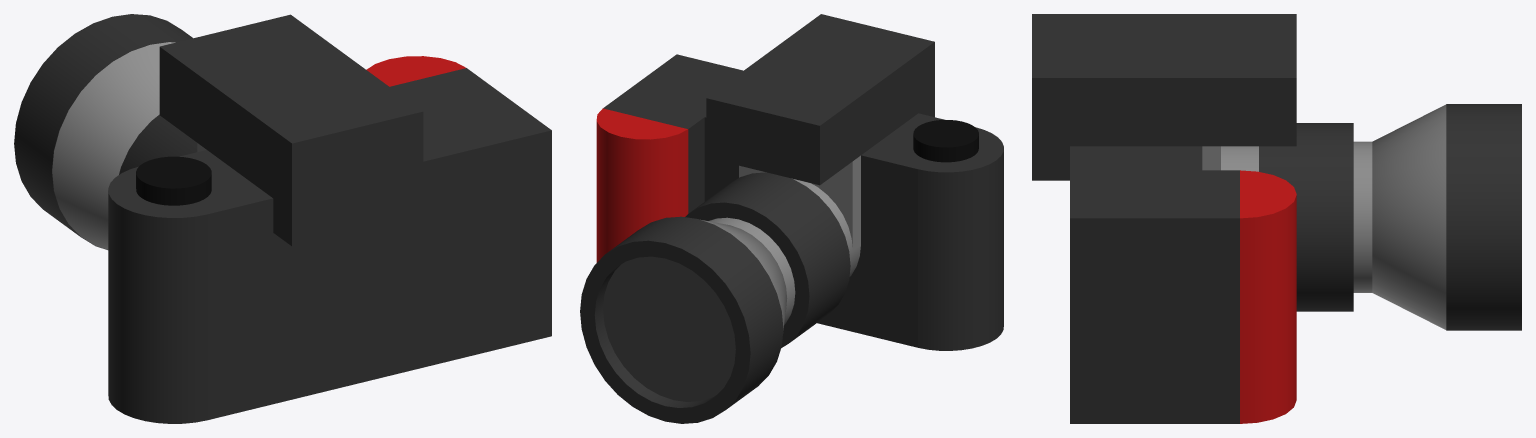
Rendered from Camera.obj.
The picture shows the model from 3 angles, left to right: view 1: azimuth 30°, elevation 25°; view 2: azimuth 150°, elevation 25°; view 3: azimuth 270°, elevation 25°; orthographic projection. The views are drawn at different scales.
Parts seen in each view (by area): view 1: 7, 8, 2, 9, 6, 5, 3, 4, 1, 10; view 2: 5, 8, 7, 2, 4, 1, 9, 10, 3, 12, 11, 6; view 3: 7, 8, 5, 6, 1, 4, 10, 9, 12, 11.
Boxes of the visible parts, x1,y1,x2,y2 form: 7: [179, 82, 551, 419]; 8: [159, 14, 403, 197]; 2: [108, 166, 207, 423]; 9: [273, 97, 423, 246]; 6: [52, 42, 175, 249]; 5: [14, 14, 192, 249]; 3: [136, 156, 211, 205]; 4: [119, 114, 197, 174]; 1: [366, 56, 465, 86]; 10: [390, 68, 485, 100]; 5: [580, 216, 783, 423]; 8: [706, 26, 918, 185]; 7: [619, 54, 943, 347]; 2: [918, 127, 1003, 350]; 4: [685, 172, 850, 347]; 1: [596, 108, 688, 262]; 9: [805, 14, 934, 117]; 10: [603, 96, 704, 213]; 3: [913, 119, 978, 162]; 12: [708, 178, 860, 324]; 11: [739, 155, 860, 250]; 6: [700, 219, 787, 330]; 7: [1070, 146, 1202, 423]; 8: [1070, 14, 1296, 146]; 5: [1446, 104, 1521, 330]; 6: [1372, 104, 1446, 329]; 1: [1240, 170, 1296, 423]; 4: [1259, 123, 1353, 311]; 10: [1202, 170, 1239, 423]; 9: [1032, 14, 1069, 180]; 12: [1221, 141, 1372, 292]; 11: [1202, 146, 1220, 170].
Size of the model in its own units: 24.5 by 16 by 25.91.
